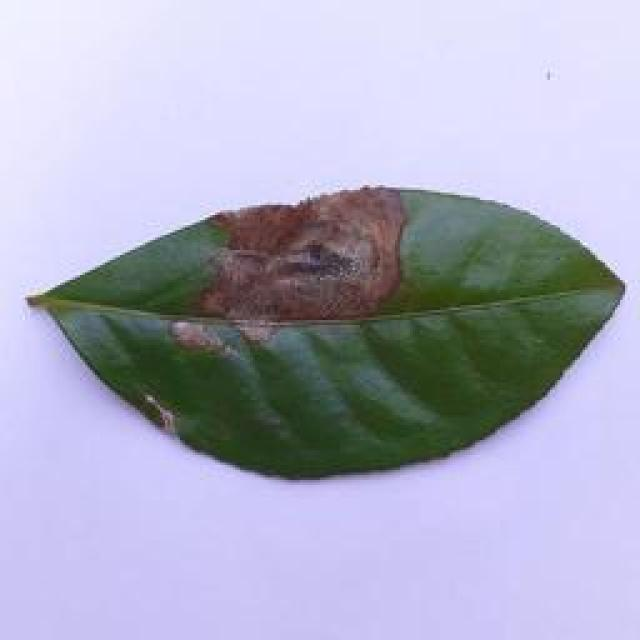Gray Blight: (18, 181, 624, 485)
